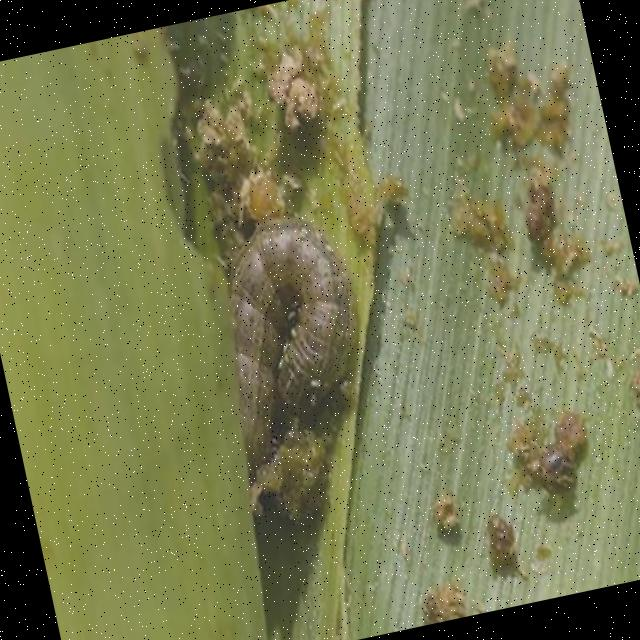worm: (194, 201, 401, 533)
